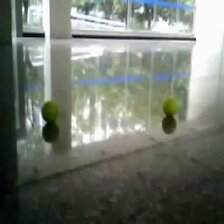tennis: (41, 101, 59, 122), (162, 98, 177, 115)
